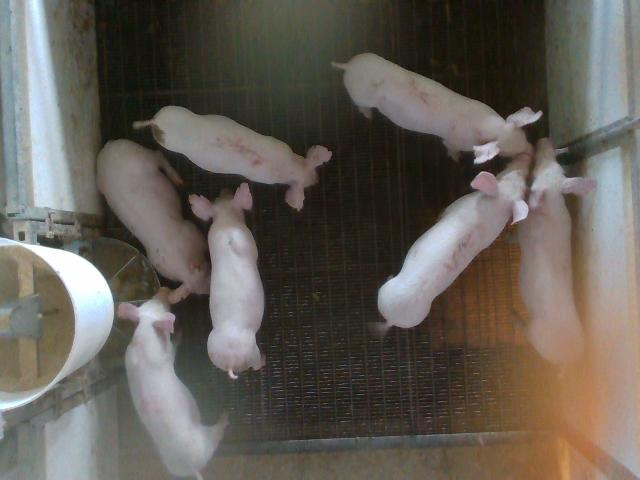pig-3: (378, 155, 531, 327)
pig-4: (118, 288, 228, 478)
pig-5: (134, 106, 331, 209)
